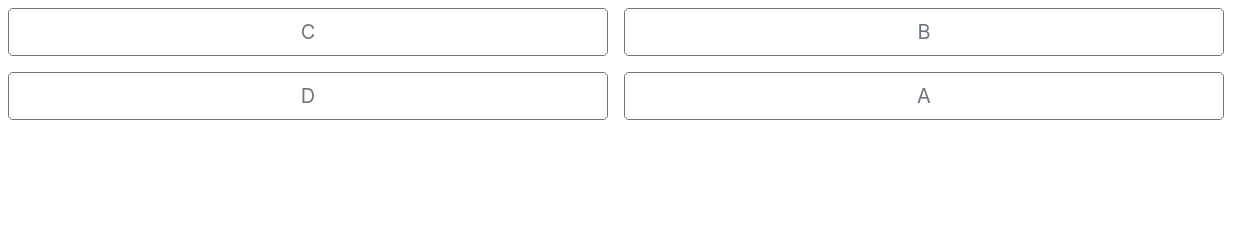
should show "Next Question" as button text along with response
Step 1. Click the button "D" → (308,96), box left=8, top=72, right=608, bottom=120
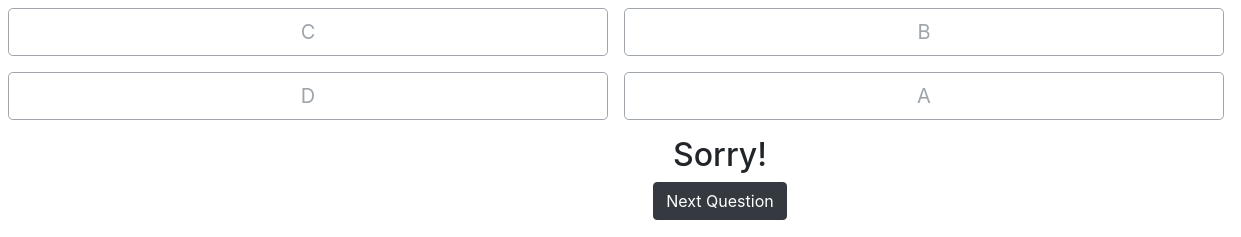
Check: the button with test id "next-btn" reads "Next Question", box left=653, top=182, right=787, bottom=220
